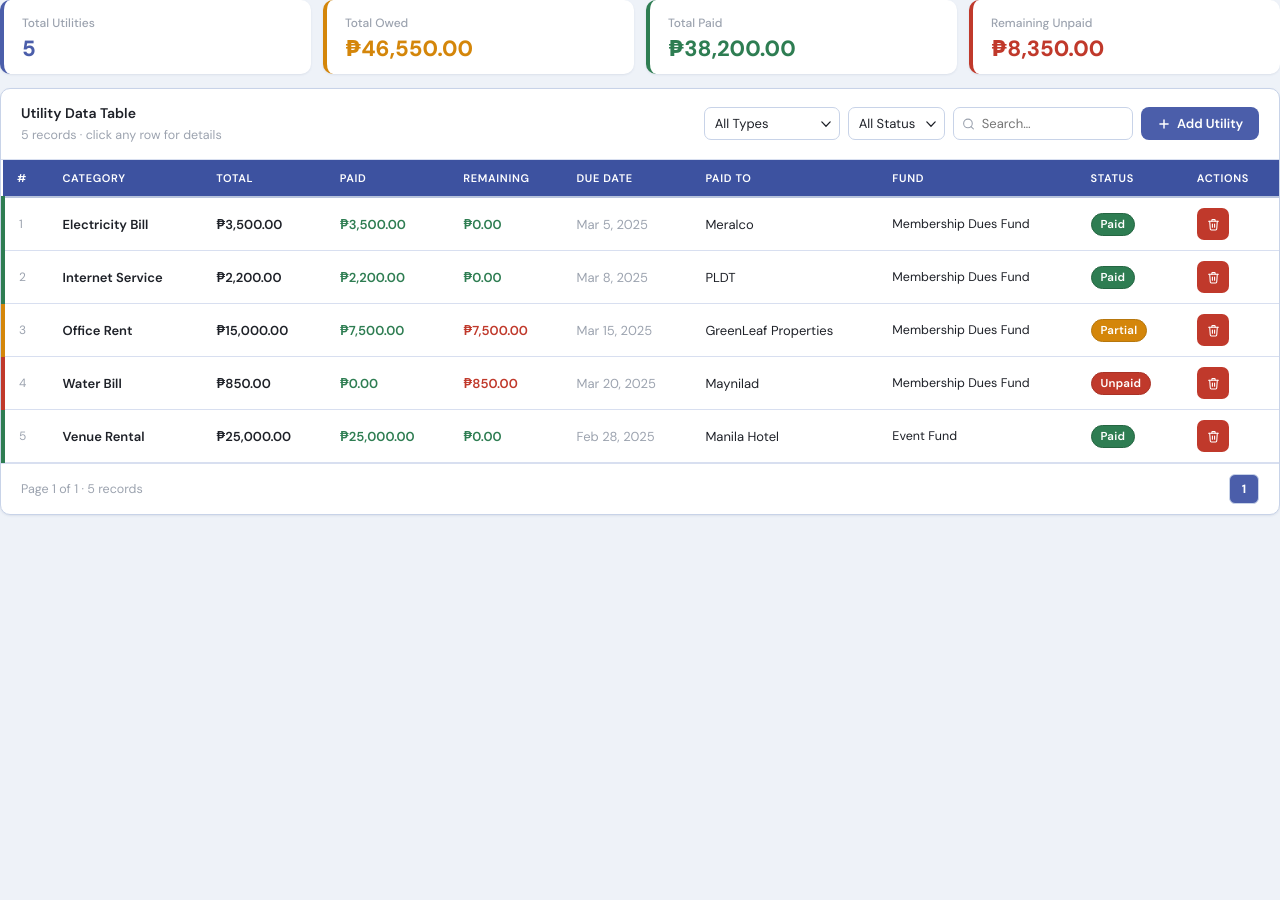
Test: Edit Utility form › has no Amount Paid or Status controls; the date is the DUE date; a note explains why
Click the text "Office Rent": [125, 330] box [48,304,202,357]
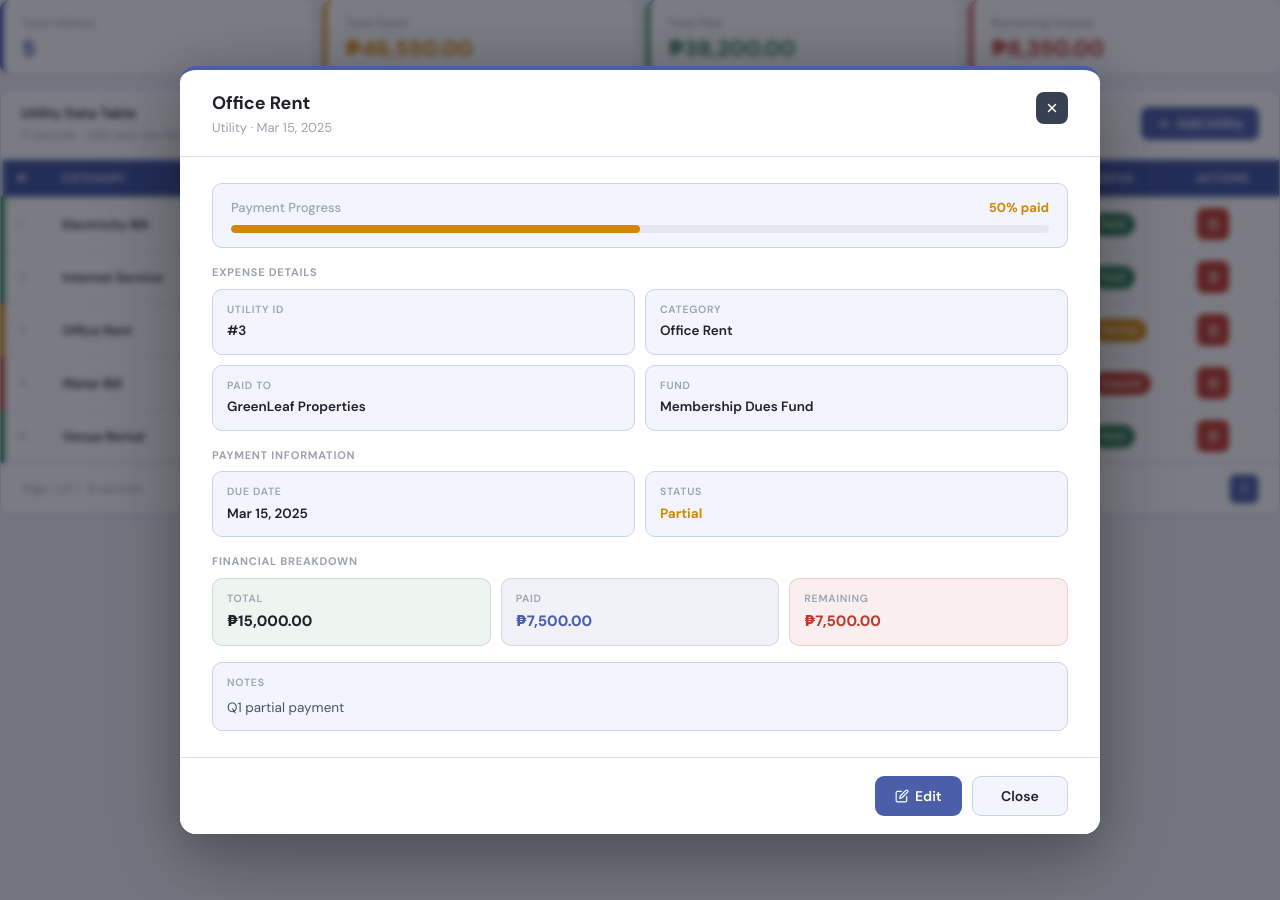
Click the button "Edit": [919, 796] box [875,776,962,816]
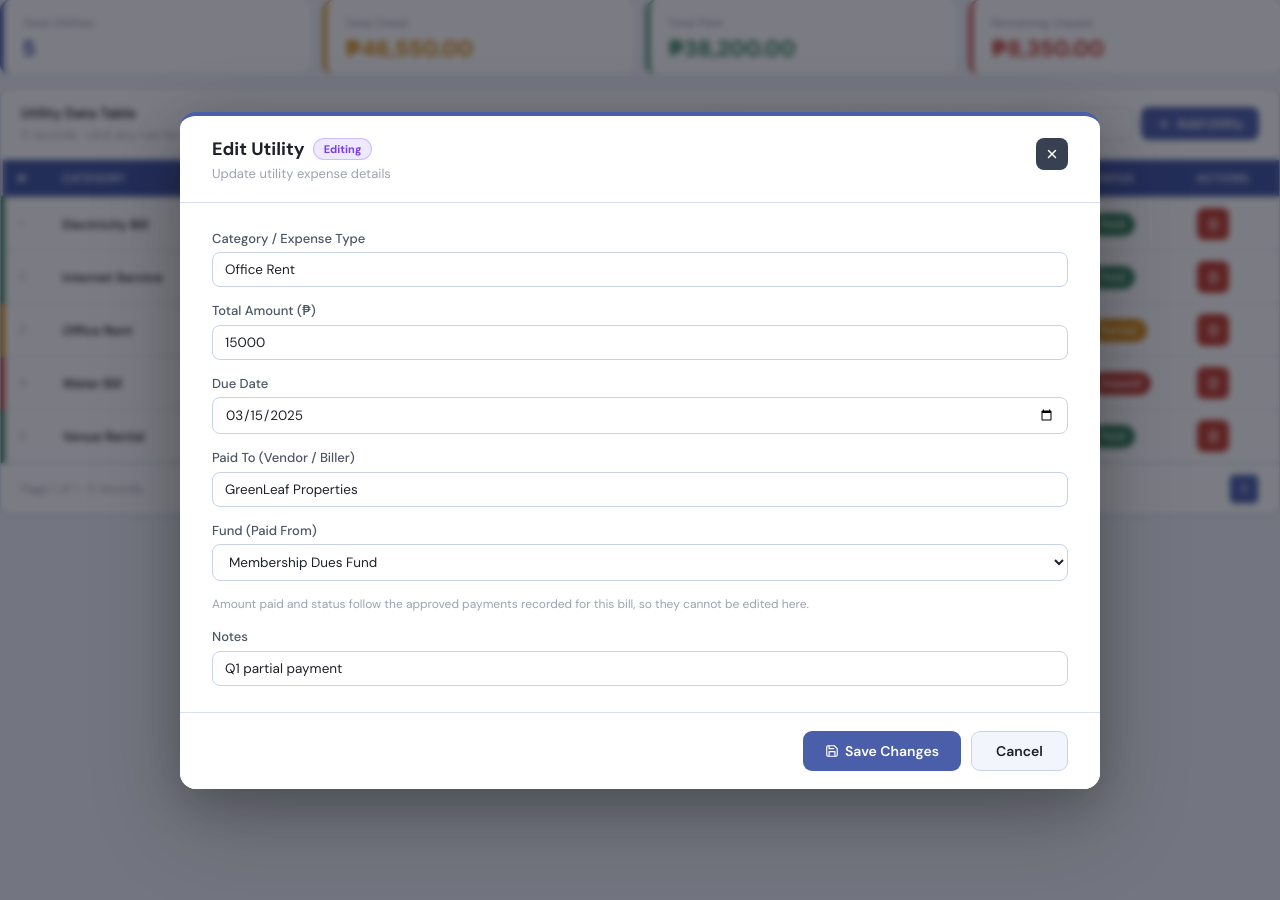
Check: the text "follow the approved payments" is shown, box [212,596,809,612]
